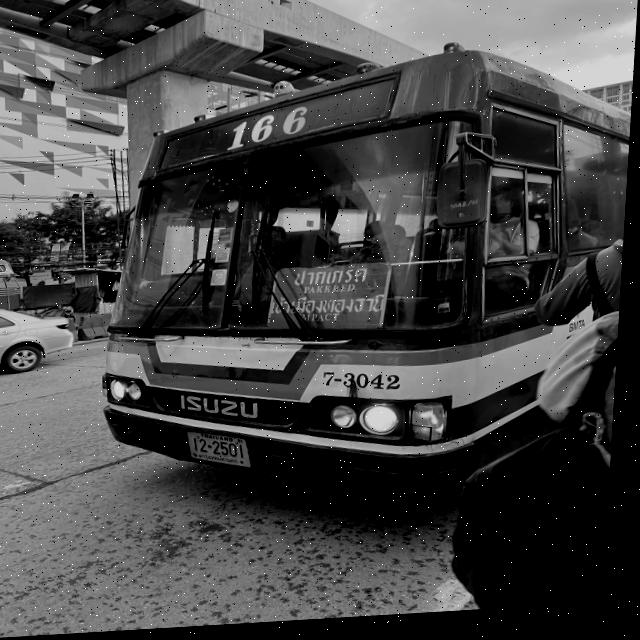BMTA-bus: (92, 30, 637, 519)
Bus-Line-Number: (227, 108, 317, 160)
Destination-Sign-Extra-Bus: (274, 265, 395, 336)
